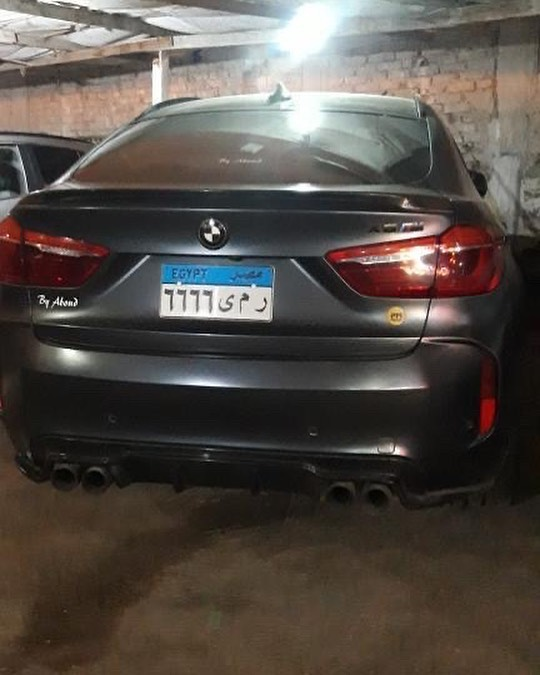carpl: (152, 251, 277, 328)
